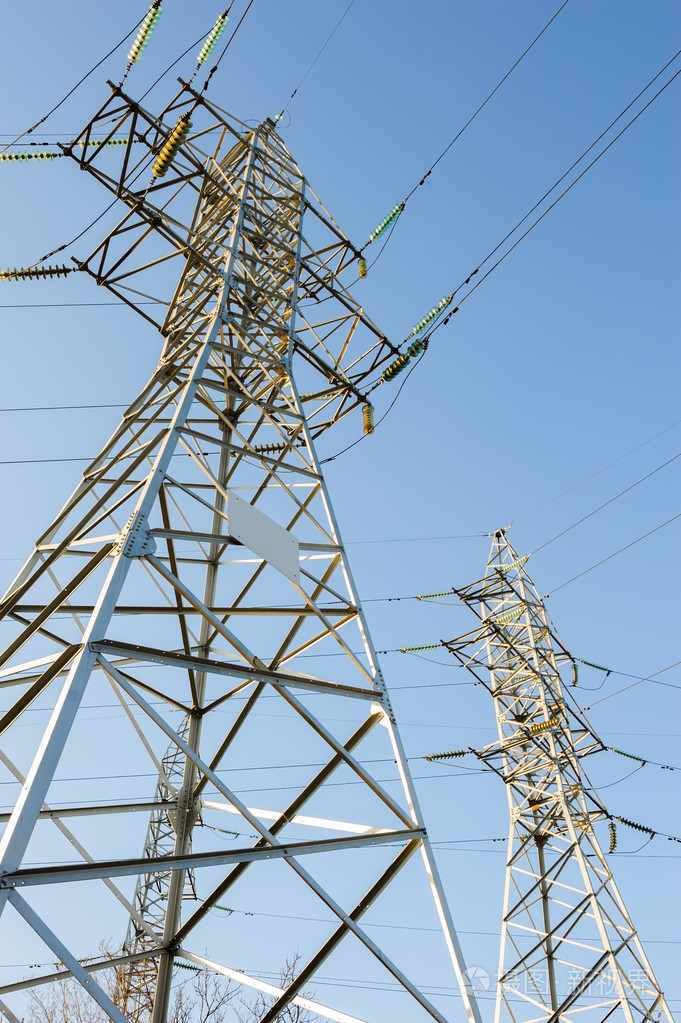insulator: (153, 118, 193, 174), (130, 5, 163, 62), (1, 259, 69, 285), (408, 296, 454, 333), (198, 13, 226, 61), (367, 205, 401, 239), (379, 359, 412, 378), (358, 401, 375, 435)
